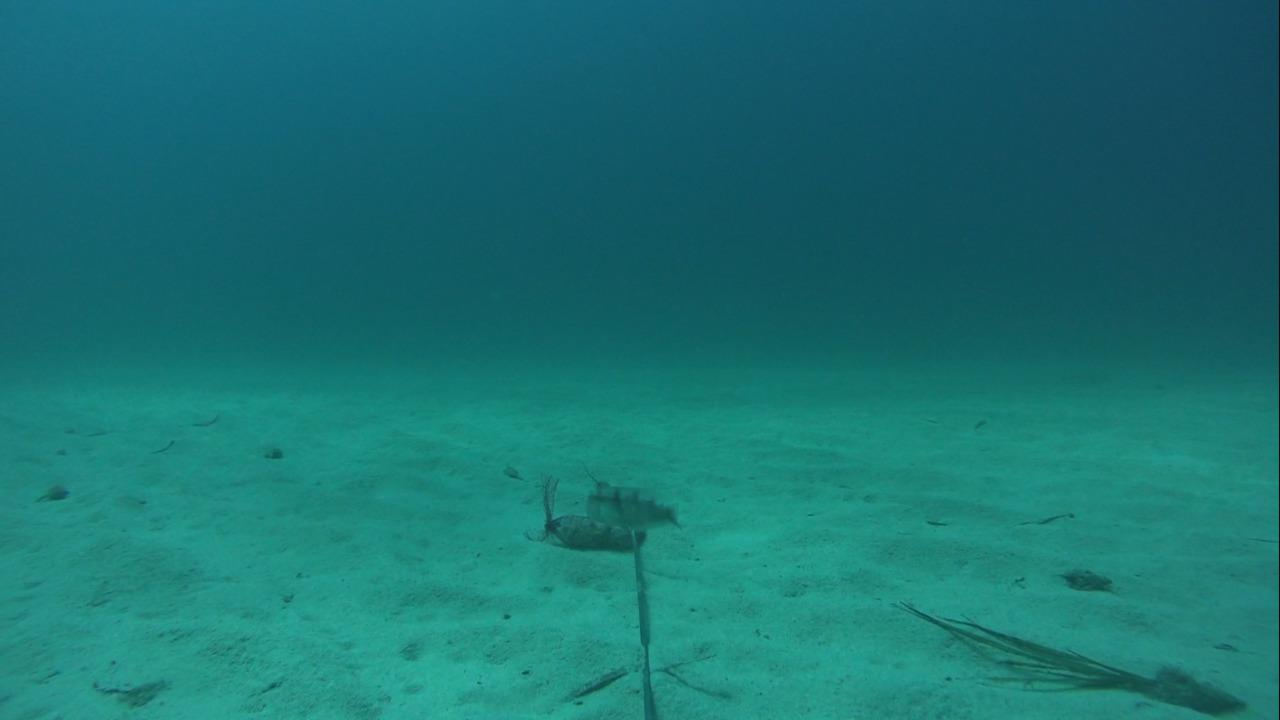raor: (581, 480, 684, 540)
